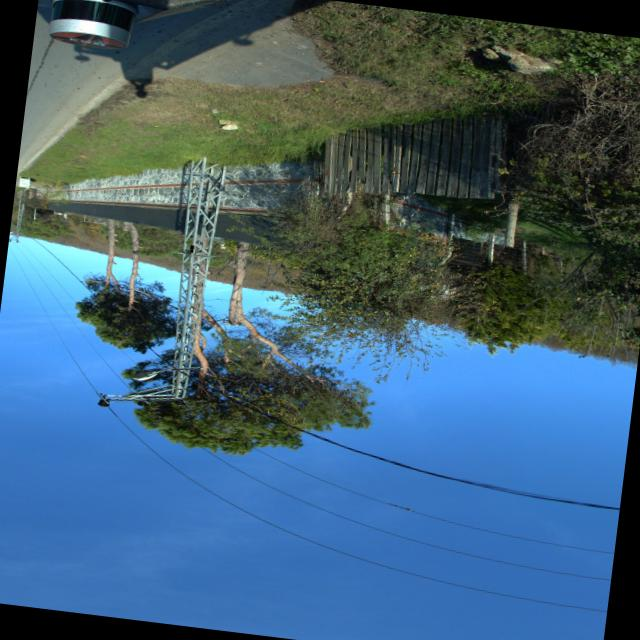Utility Pole Information Plate: (189, 244, 192, 248), (189, 248, 192, 251)
